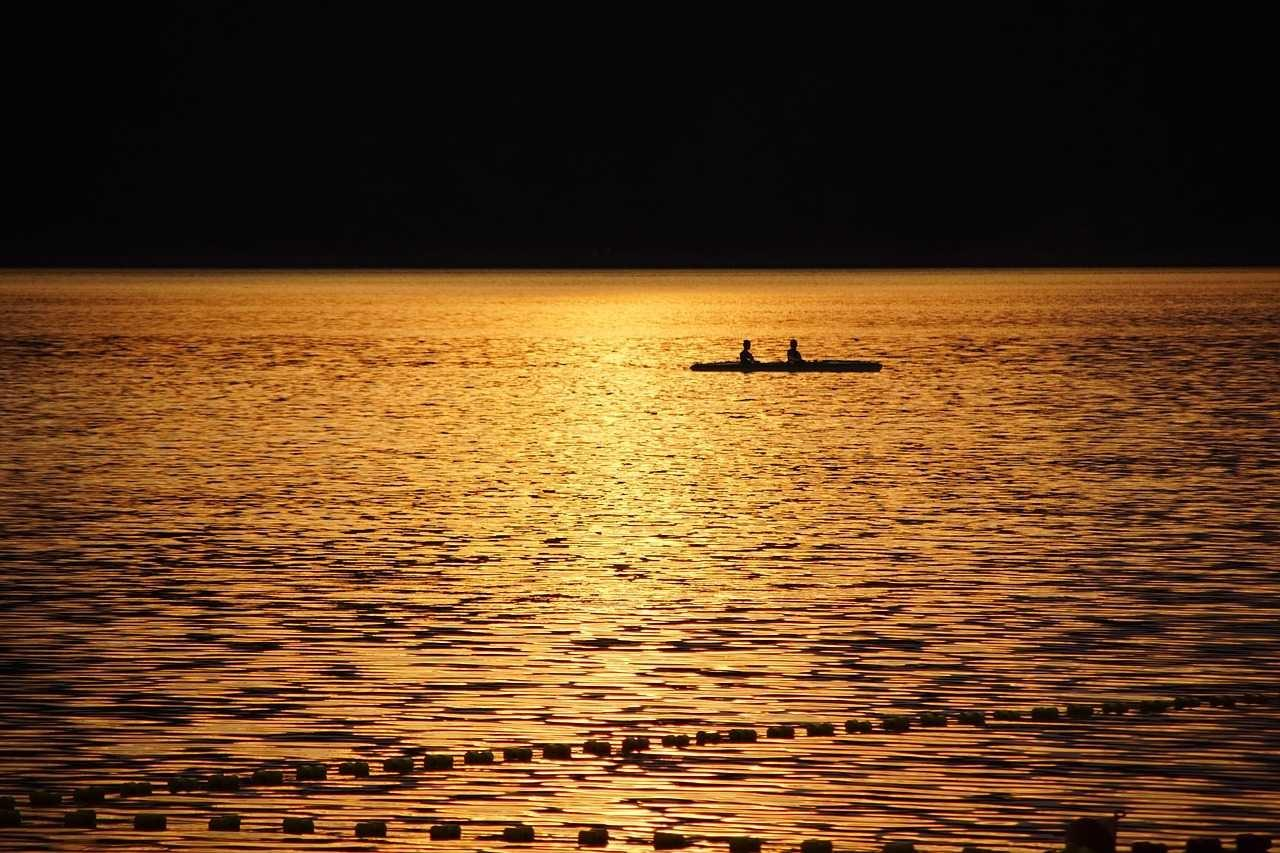kayak: (690, 350, 894, 377)
